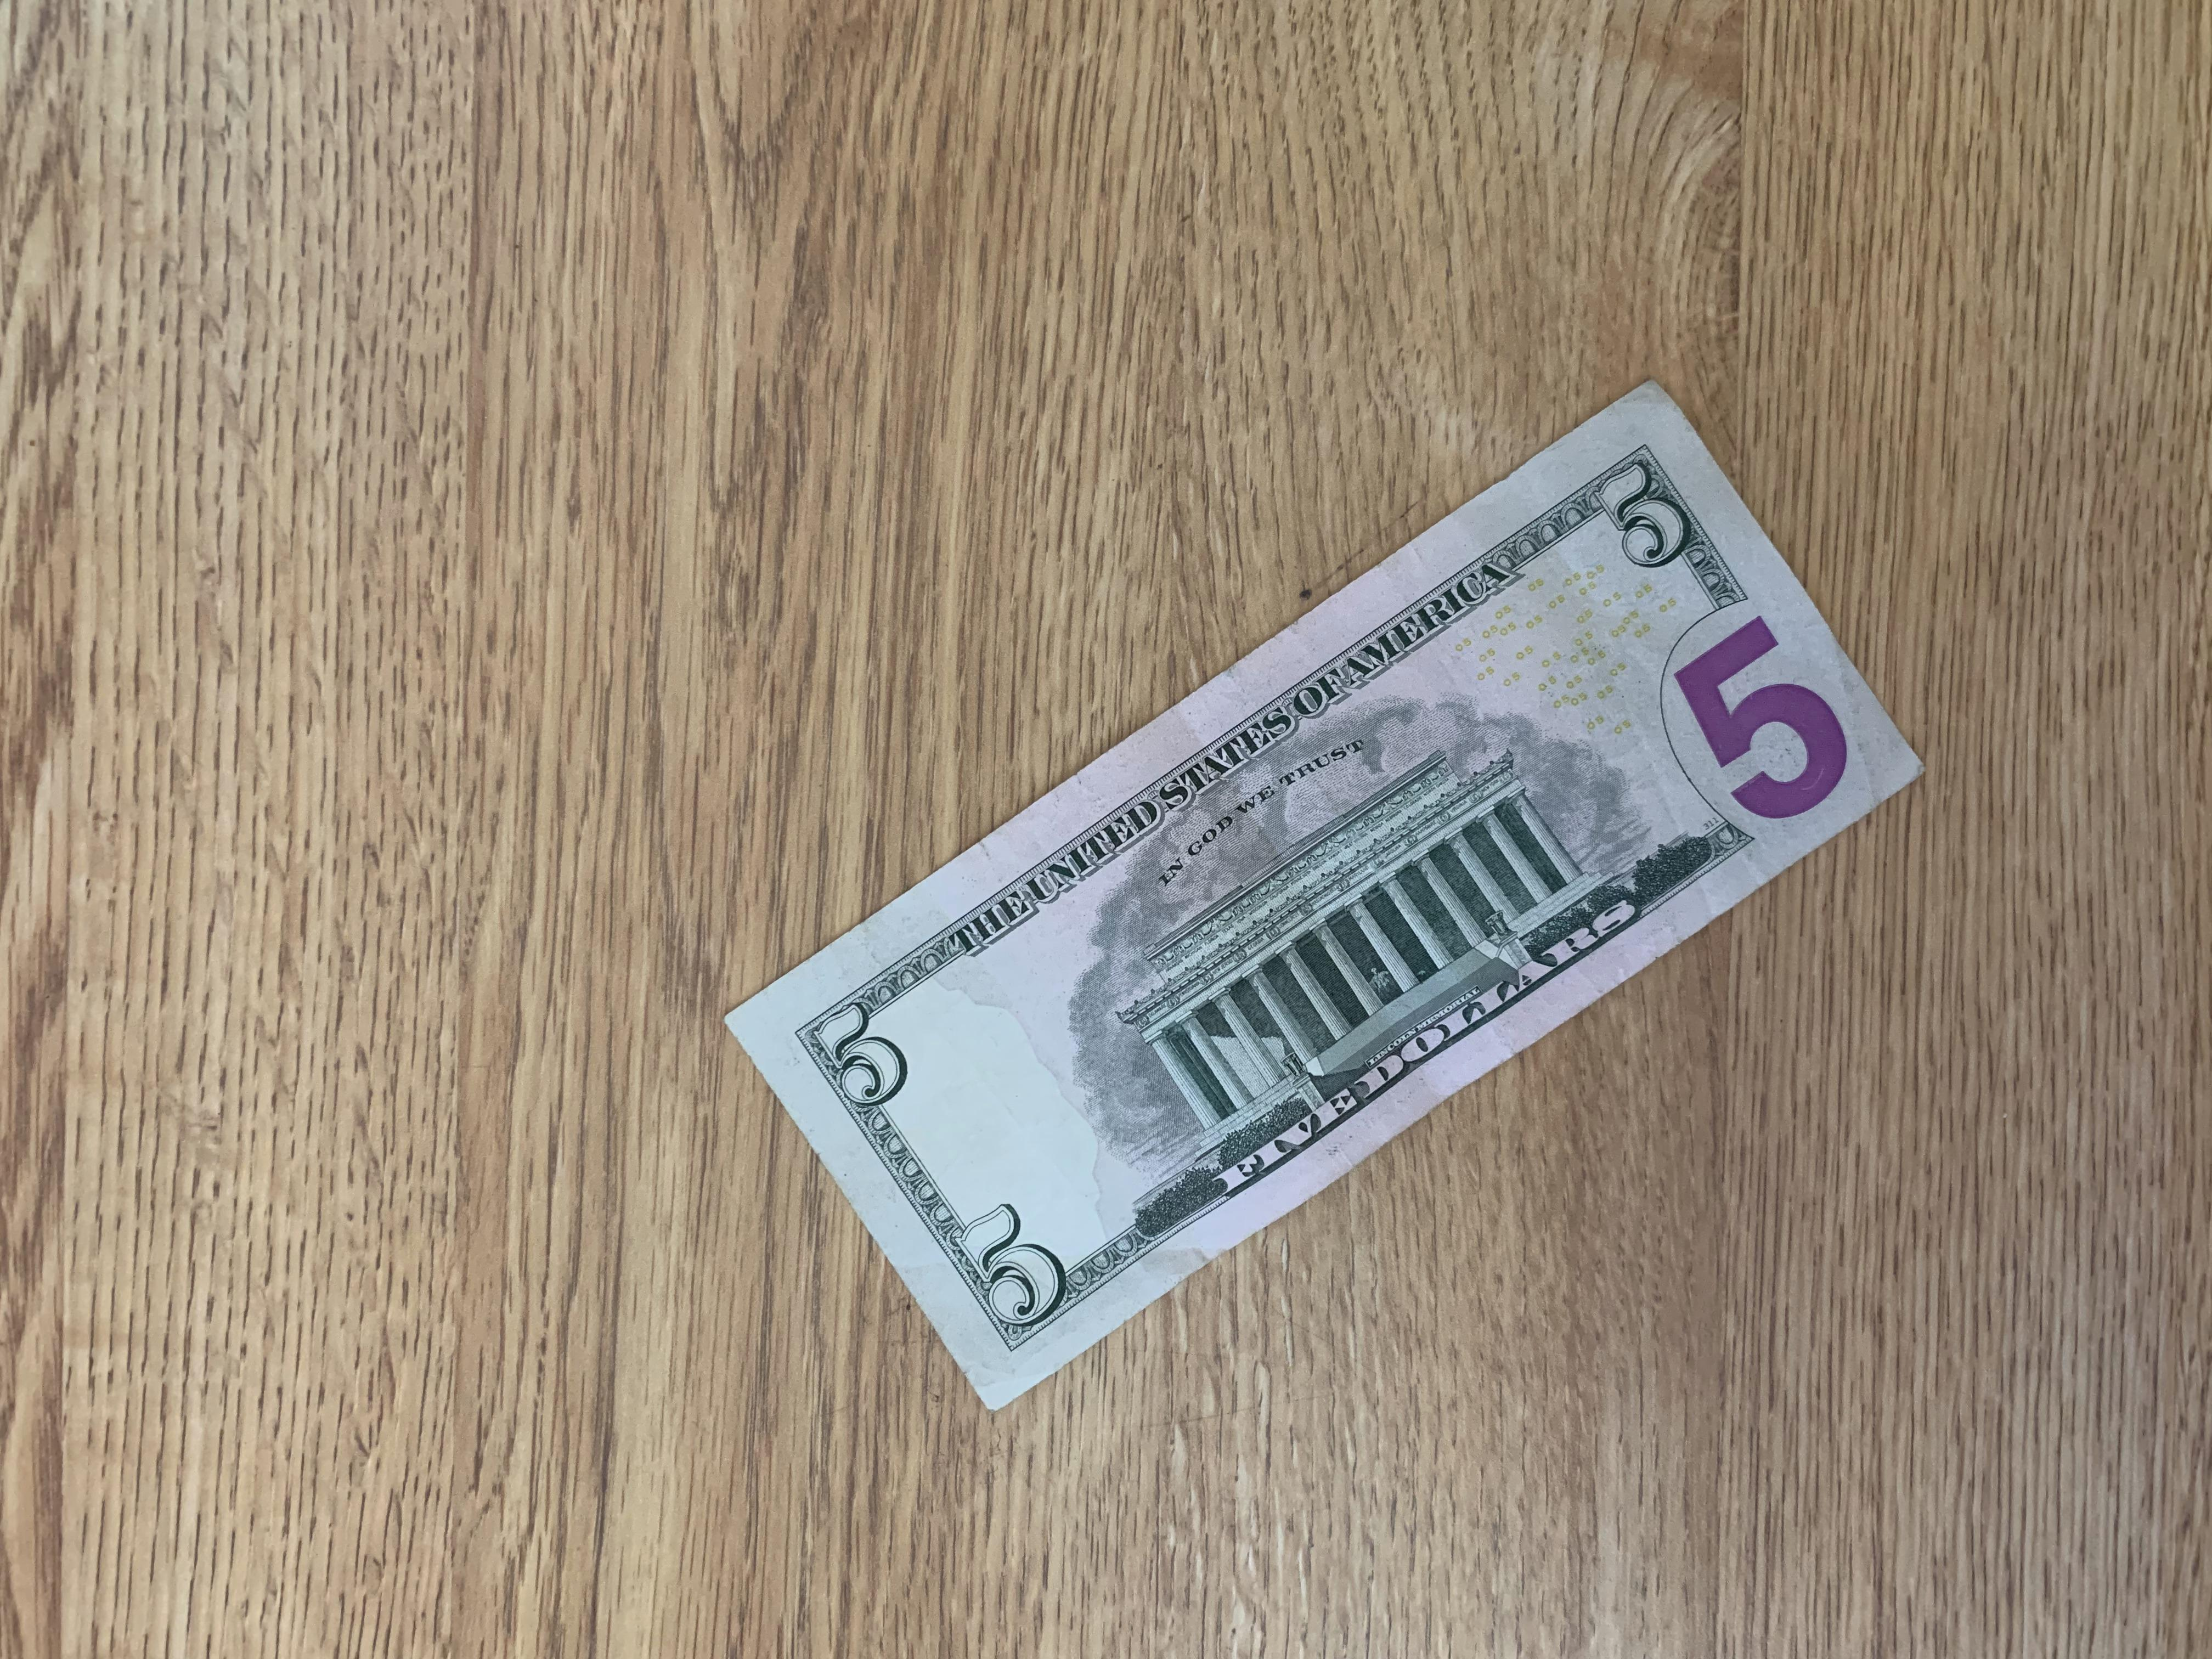FiveBill: (721, 383, 1951, 1417)
